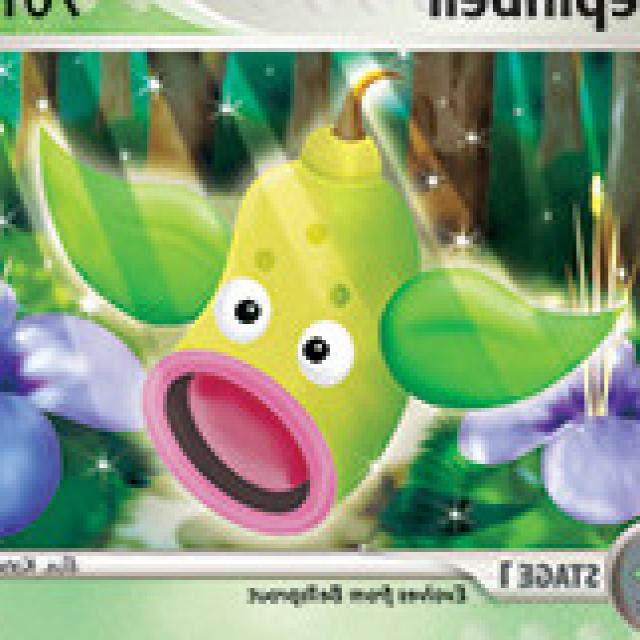Weepinbell: (131, 121, 438, 538)
